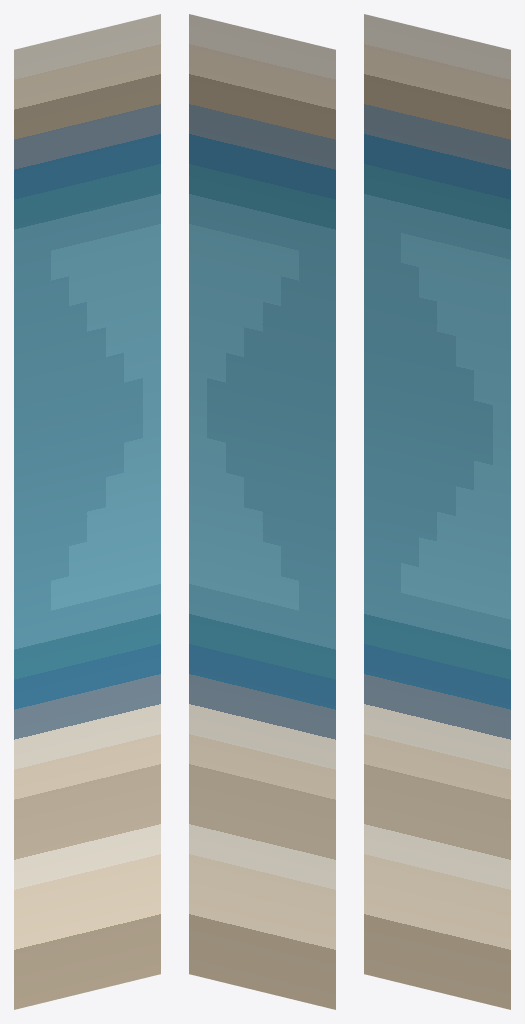
3 renders of one model, left to right at view 1: azimuth 30°, elevation 25°; view 2: azimuth 150°, elevation 25°; view 3: azimuth 330°, elevation 25°, orthographic.
Size of the model in its own units: 0.5 by 3.12 by 0.
1 material, 1 textured.
